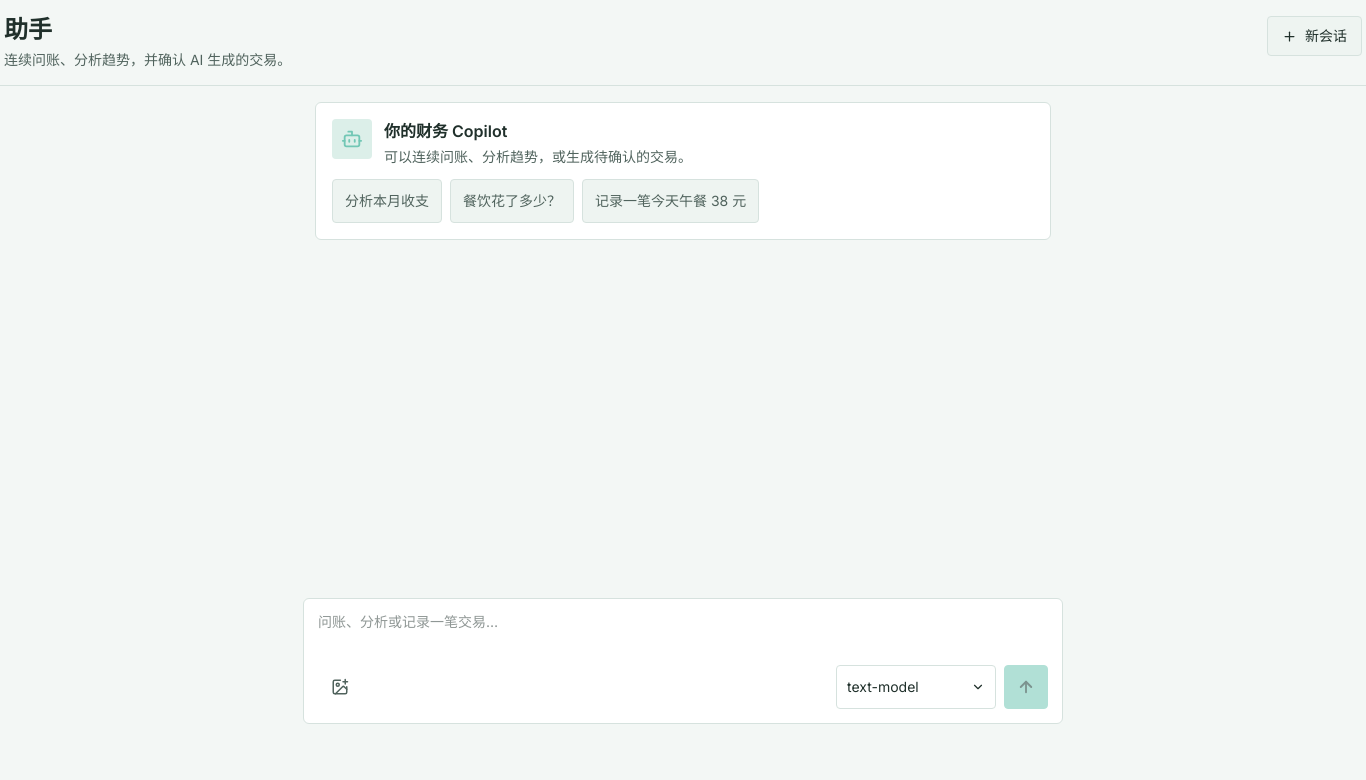
Test case: AiHubView › requires explicit batch confirmation before saving candidates
The width and height of the screenshot is (1366, 780).
Type "记一下午餐 38 元" into the text box named "输入消息".
click(683, 635); type("记一下午餐 38 元")  # box [318,613,1048,657]
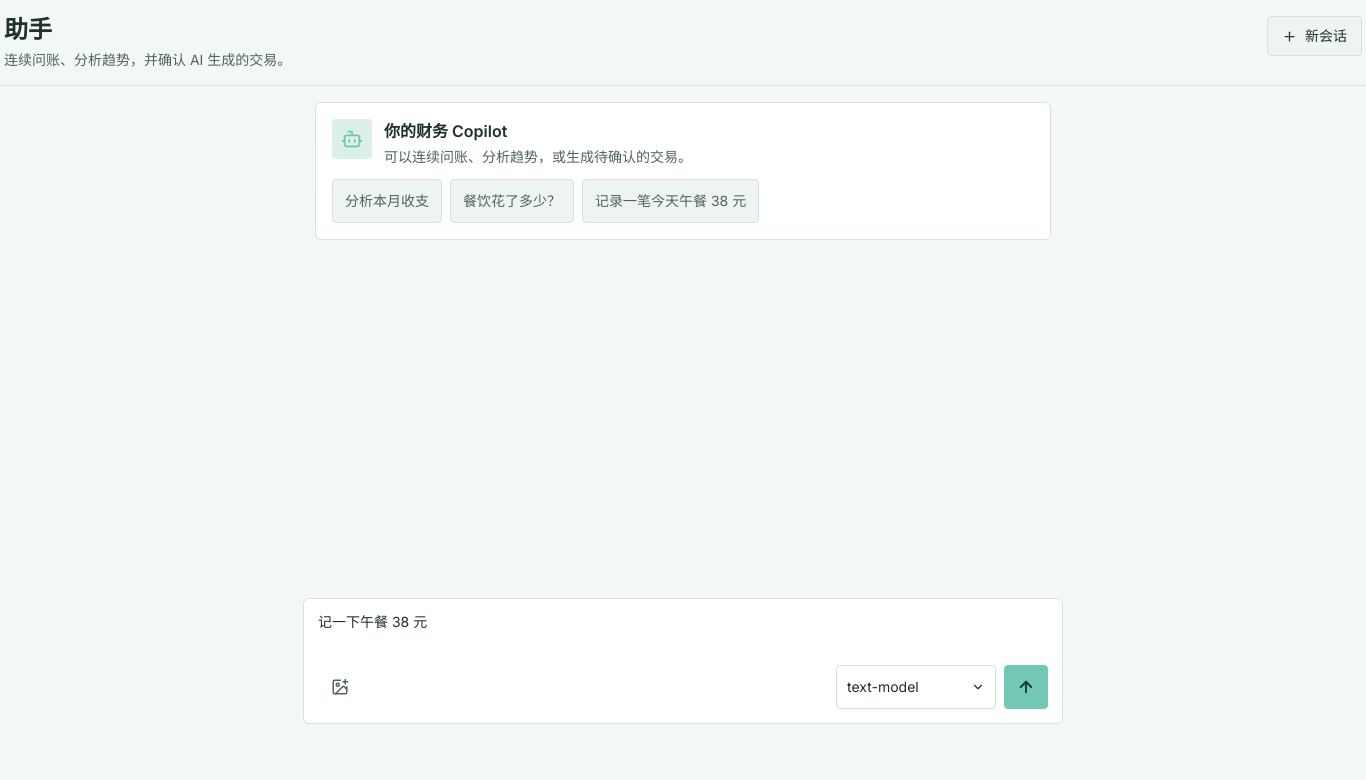
Click the button named "发送".
click(1026, 687)  # box [1004,665,1048,709]
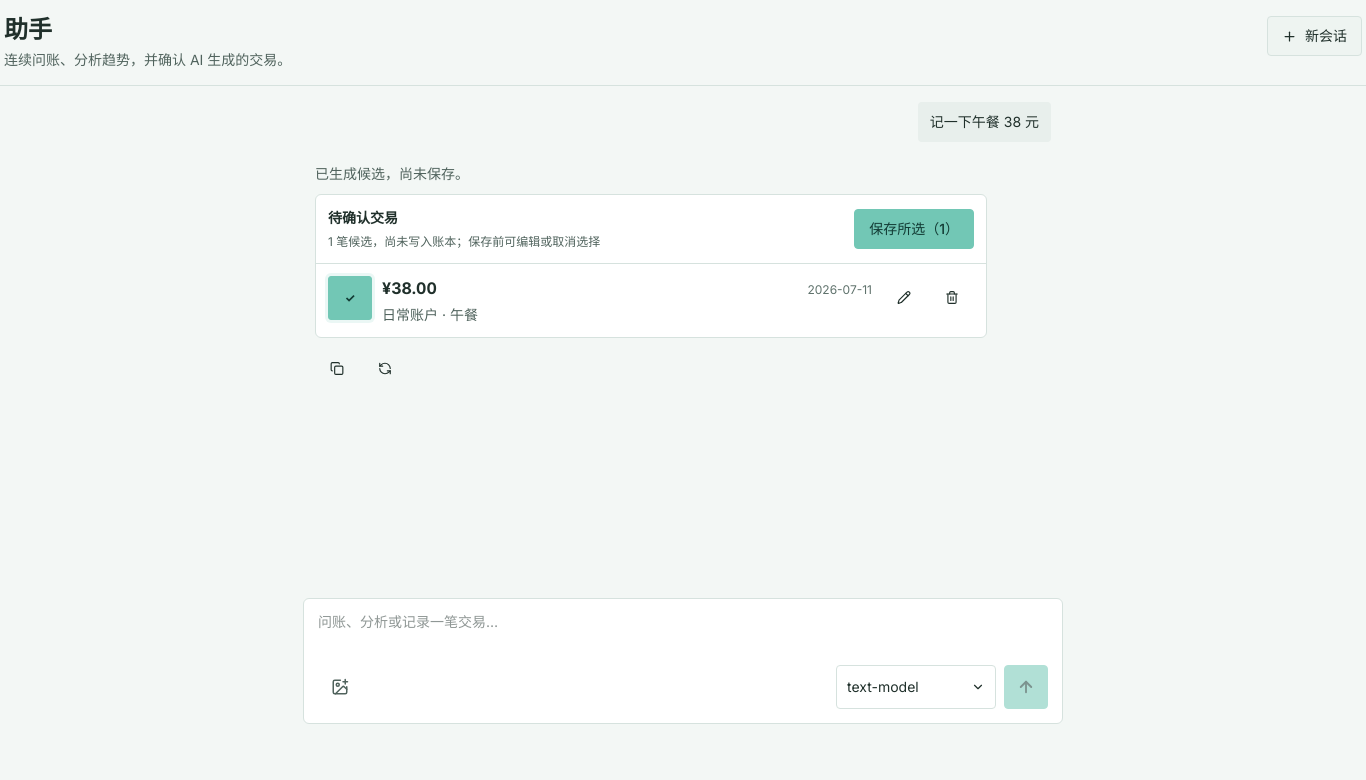
Now the element "待确认交易" is shown, box [315,194,987,338]
Click the button "保存所选（1）".
click(914, 229)  # box [854,209,974,249]
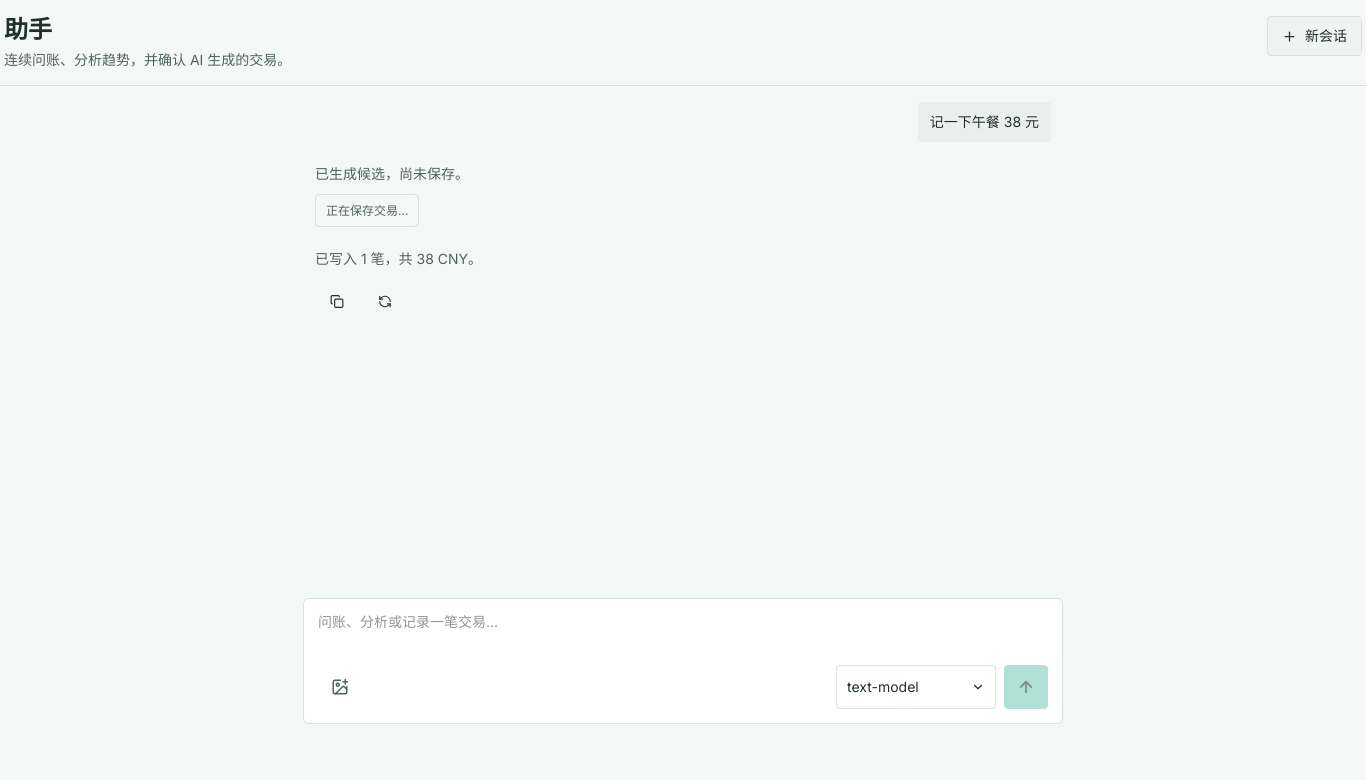
Now the text "已写入 1 笔，共 38 CNY。" is shown, box [315,247,482,271]
